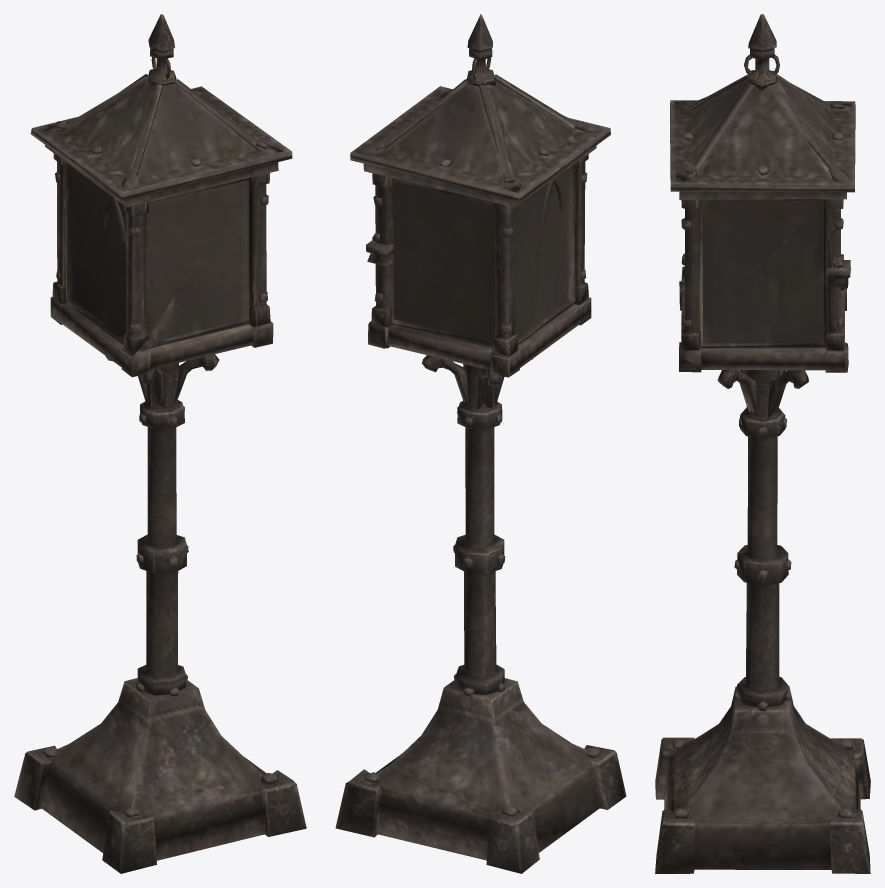
Rendered from h_lantern_standing.glb.
The picture shows the model from 3 angles, left to right: view 1: azimuth 30°, elevation 25°; view 2: azimuth 150°, elevation 25°; view 3: azimuth 270°, elevation 25°; orthographic projection. The views are drawn at different scales.
Parts seen in each view (by area): view 1: h_lantern_standing; view 2: h_lantern_standing; view 3: h_lantern_standing.
Part boxes in pixels (<box>): h_lantern_standing: <box>14,14,306,873</box>; h_lantern_standing: <box>335,14,626,873</box>; h_lantern_standing: <box>655,14,870,873</box>.
Size of the model in its own units: 0.2264 by 0.9252 by 0.2224.
Materials: 1 (1 with a texture image).
